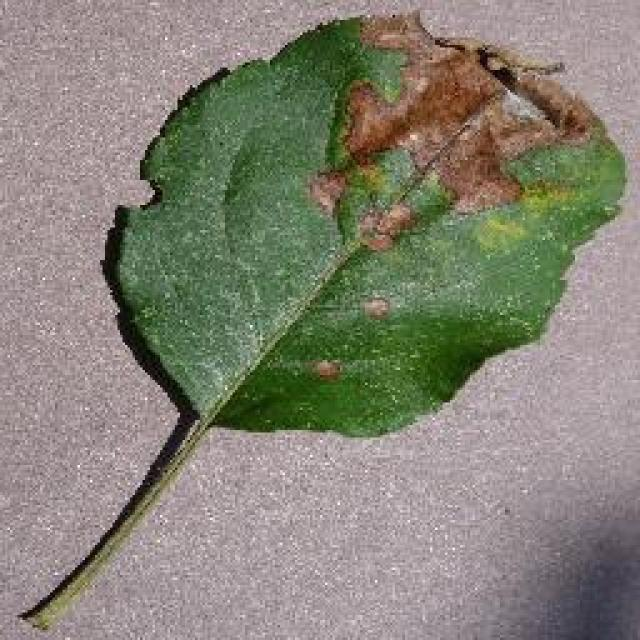Black_rot: (15, 8, 627, 630)
